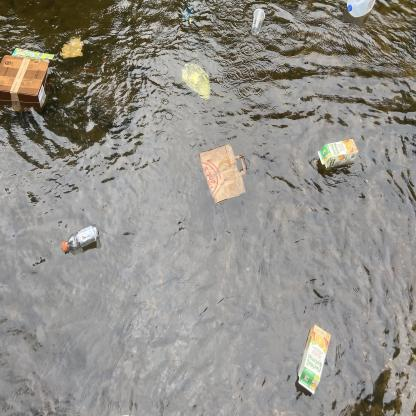trash: (196, 140, 254, 210), (0, 51, 54, 120), (292, 322, 335, 400), (314, 133, 362, 177), (58, 218, 101, 262), (180, 58, 214, 108), (7, 41, 58, 68), (244, 4, 270, 42), (343, 0, 379, 26)
